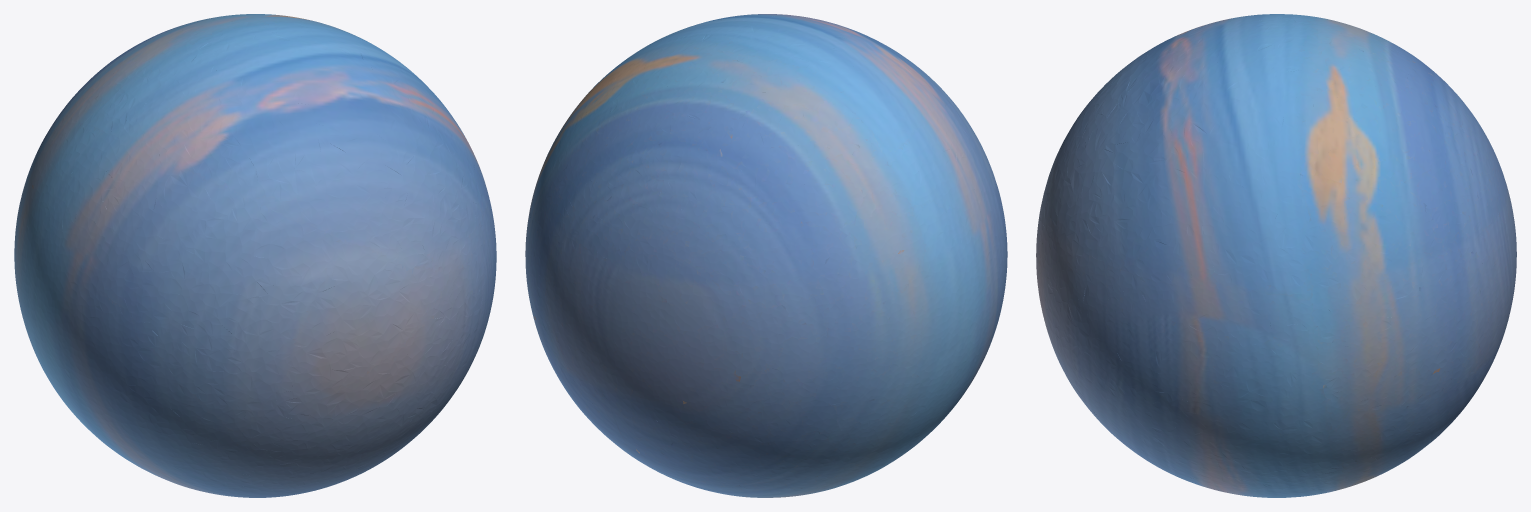
Rendered from planet_7.glb.
3 renders of one model, left to right at view 1: azimuth 30°, elevation 25°; view 2: azimuth 150°, elevation 25°; view 3: azimuth 270°, elevation 25°, orthographic.
Parts seen in each view (by area): view 1: geometry_0; view 2: geometry_0; view 3: geometry_0.
Boxes of the visible parts, x1,y1,x2,y2 form: geometry_0: (14,14,496,497); geometry_0: (525,14,1007,497); geometry_0: (1036,14,1516,497).
Size of the model in its own units: 0.246 by 0.2473 by 0.2453.
Materials: 1 (1 with a texture image).
